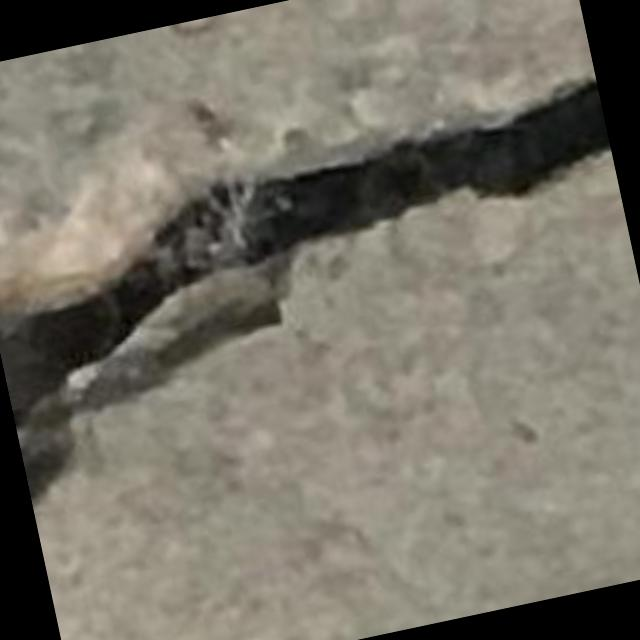crack: (0, 78, 611, 505)
